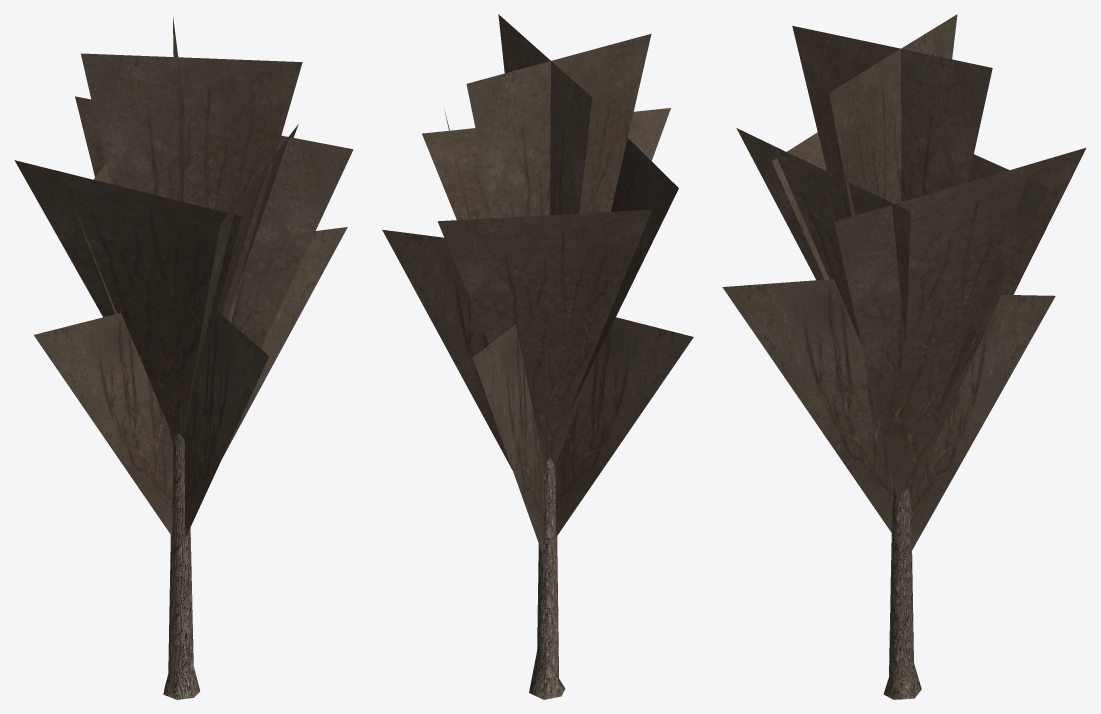
Rendered from tree2c.fbx.
3 views of the same model, side by side, from view 1: azimuth 30°, elevation 25°; view 2: azimuth 150°, elevation 25°; view 3: azimuth 270°, elevation 25° (orthographic).
Visible parts, largest first — view 1: mesh_10, mesh_6, mesh_2, mesh_8, mesh_3, mesh_0, mesh_1, mesh_7, mesh_9; view 2: mesh_5, mesh_9, mesh_2, mesh_1, mesh_4, mesh_10, mesh_7, mesh_6, mesh_0, mesh_8; view 3: mesh_8, mesh_3, mesh_9, mesh_4, mesh_7, mesh_10, mesh_0, mesh_5, mesh_6.
Boxes of the visible parts, x1=… form: mesh_10: x1=80, y1=53, x2=302, y2=450; mesh_6: x1=14, y1=160, x2=241, y2=440; mesh_2: x1=34, y1=313, x2=173, y2=536; mesh_8: x1=75, y1=96, x2=353, y2=348; mesh_3: x1=184, y1=311, x2=268, y2=537; mesh_0: x1=163, y1=433, x2=199, y2=699; mesh_1: x1=222, y1=227, x2=347, y2=458; mesh_7: x1=183, y1=124, x2=298, y2=430; mesh_9: x1=173, y1=17, x2=184, y2=447; mesh_5: x1=437, y1=209, x2=651, y2=466; mesh_9: x1=466, y1=33, x2=651, y2=217; mesh_2: x1=555, y1=317, x2=693, y2=536; mesh_1: x1=382, y1=229, x2=512, y2=470; mesh_4: x1=472, y1=324, x2=543, y2=555; mesh_10: x1=498, y1=14, x2=592, y2=214; mesh_7: x1=422, y1=108, x2=670, y2=219; mesh_6: x1=568, y1=138, x2=678, y2=413; mesh_0: x1=529, y1=458, x2=565, y2=699; mesh_8: x1=444, y1=108, x2=533, y2=465; mesh_8: x1=834, y1=147, x2=1086, y2=504; mesh_3: x1=722, y1=279, x2=892, y2=532; mesh_9: x1=792, y1=26, x2=992, y2=201; mesh_4: x1=911, y1=294, x2=1055, y2=549; mesh_7: x1=736, y1=128, x2=910, y2=346; mesh_10: x1=829, y1=14, x2=957, y2=216; mesh_0: x1=883, y1=480, x2=921, y2=699; mesh_5: x1=936, y1=154, x2=1048, y2=413; mesh_6: x1=771, y1=132, x2=829, y2=279.
Bounding box in the file's own units: 559 × 1074 × 552.
2 materials, 2 textured.
